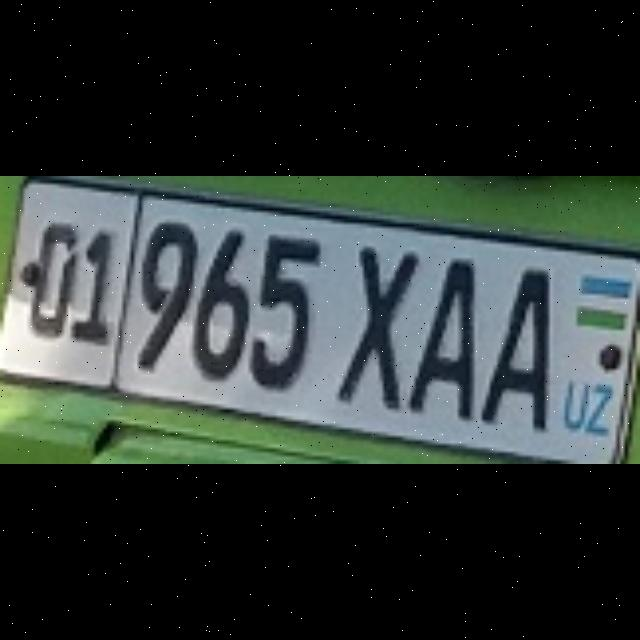0: (28, 220, 70, 334)
1: (67, 228, 107, 342)
5: (244, 231, 316, 385)
6: (190, 227, 244, 377)
9: (134, 220, 193, 370)
A: (474, 267, 542, 429), (404, 255, 471, 417)
X: (332, 243, 411, 405)
